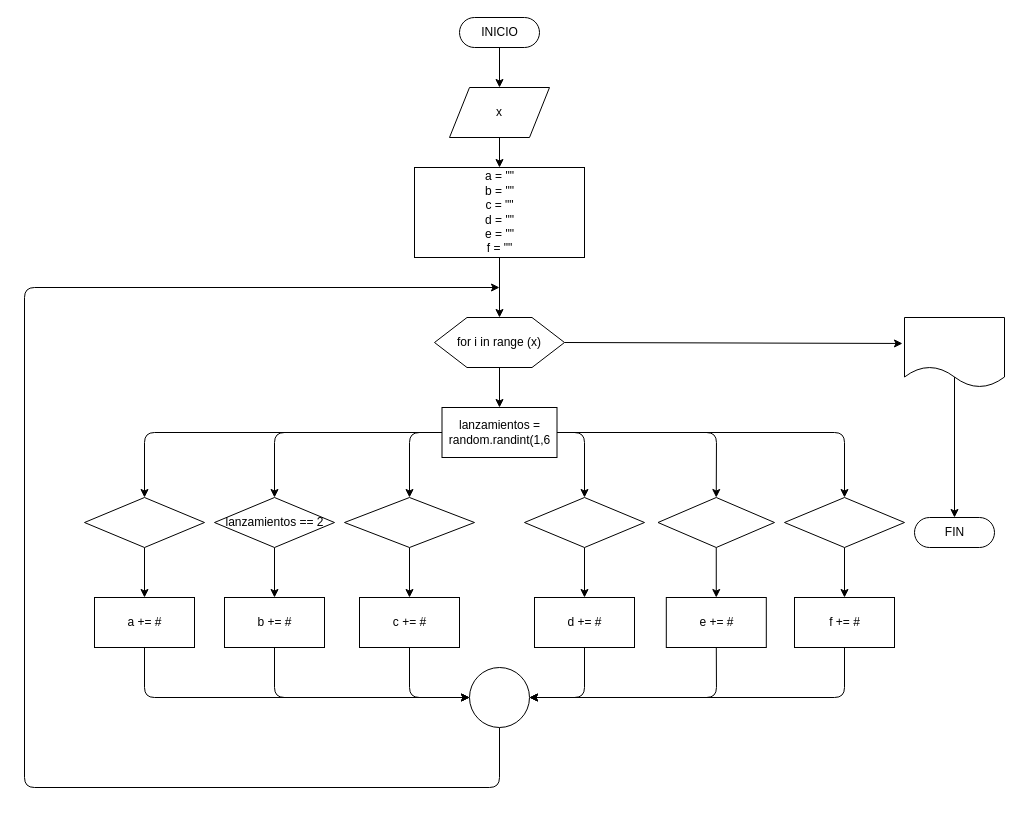
This 1022x813 diagram has some shape labels left out. Here are the shapes that lost their labels. From the top down, the centre of each, then its label:
At pixel 954 352: "a b c d e f".
At pixel 144 522: "lanzamientos == 1".
At pixel 409 522: "lanzamientos == 3".
At pixel 584 522: "lanzamientos == 4".
At pixel 715 522: "lanzamientos == 5".
At pixel 844 522: "lanzamientos == 6".
